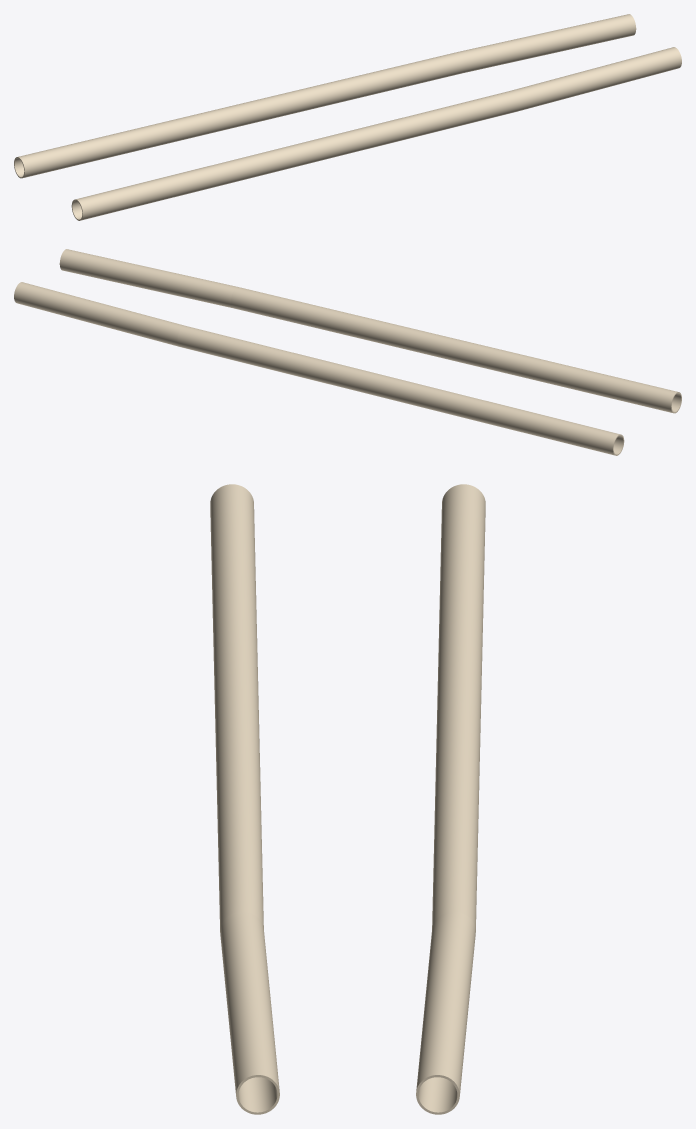
The model's file is BODY__INTERNALS__4_ ID wireway tubes.glb.
The picture shows the model from 3 angles, top to bottom: view 1: azimuth 30°, elevation 25°; view 2: azimuth 150°, elevation 25°; view 3: azimuth 270°, elevation 25°; orthographic projection. The views are drawn at different scales.
Parts seen in each view (by area): view 1: 4" ID wireway tubes; view 2: 4" ID wireway tubes; view 3: 4" ID wireway tubes.
Part boxes in pixels (bbox=[...]): 4" ID wireway tubes: bbox=[14, 14, 681, 220]; 4" ID wireway tubes: bbox=[14, 249, 681, 455]; 4" ID wireway tubes: bbox=[210, 484, 485, 1114].
Bounding box in the file's own units: 3.65 × 0.1143 × 0.7183.
